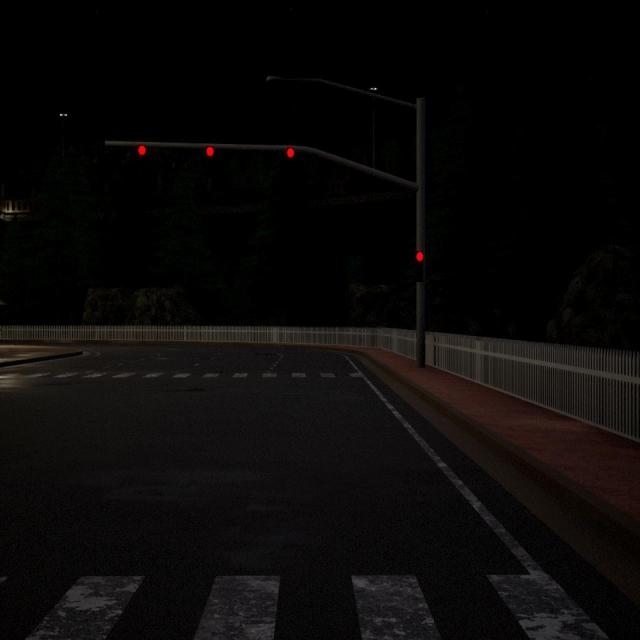traffic_light: (416, 252, 424, 280), (138, 144, 146, 156), (287, 146, 294, 158), (206, 146, 214, 156)
